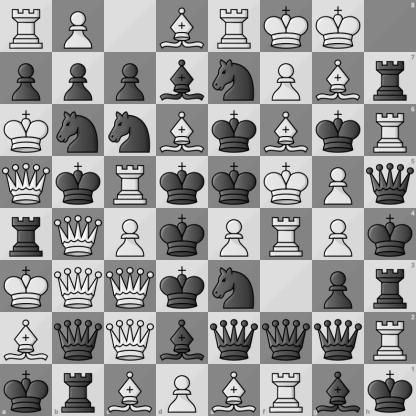B: (104, 364, 156, 416), (209, 364, 260, 416), (1, 313, 52, 364), (157, 1, 208, 52), (157, 105, 208, 156), (261, 105, 312, 156), (313, 53, 364, 104)
K: (1, 105, 52, 156), (1, 261, 52, 312), (261, 1, 312, 52), (261, 157, 312, 208), (313, 1, 364, 52)
P: (156, 364, 209, 416), (53, 1, 104, 52), (105, 209, 156, 260), (209, 209, 260, 260), (261, 53, 312, 104), (313, 157, 364, 208), (313, 209, 364, 260)
Q: (1, 157, 52, 208), (53, 209, 104, 260), (53, 261, 104, 312), (105, 261, 156, 312), (105, 313, 156, 364)
R: (260, 364, 312, 416), (364, 104, 416, 156), (364, 312, 416, 364), (1, 1, 52, 52), (105, 157, 156, 208), (209, 1, 260, 52), (261, 209, 312, 260)
b: (312, 364, 364, 416), (157, 53, 208, 104), (157, 313, 208, 364)
board: (0, 0, 415, 415)
k: (0, 364, 52, 416), (364, 364, 416, 416), (364, 209, 416, 260), (53, 157, 104, 208), (157, 157, 208, 208), (157, 209, 208, 260), (157, 261, 208, 312), (209, 105, 260, 156), (209, 157, 260, 208), (313, 105, 364, 156)
n: (53, 105, 104, 156), (105, 105, 156, 156), (209, 53, 260, 104), (209, 261, 260, 312)
p: (1, 53, 52, 104), (53, 53, 104, 104), (105, 53, 156, 104), (313, 261, 364, 312)
q: (364, 156, 416, 209), (53, 313, 104, 364), (209, 313, 260, 364), (261, 313, 312, 364), (313, 313, 364, 364)
r: (52, 364, 104, 416), (364, 52, 416, 104), (364, 260, 416, 312), (1, 209, 52, 260)
